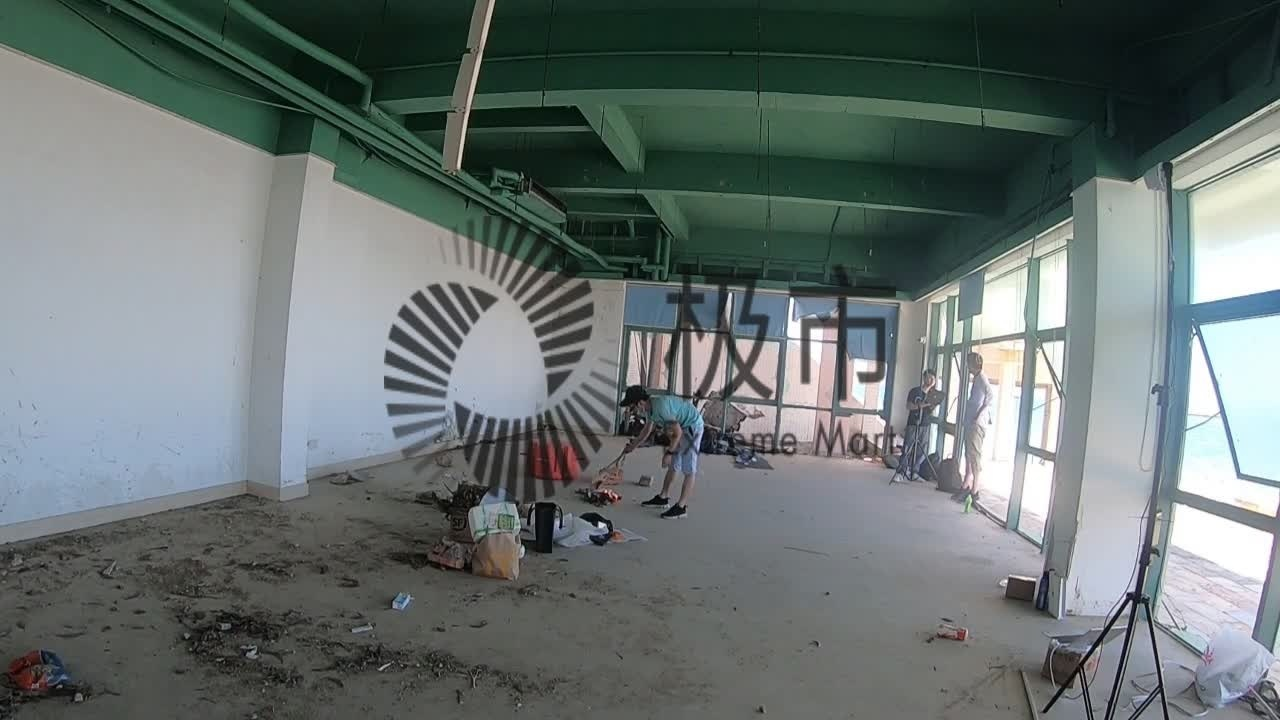fire: (597, 482, 622, 504)
